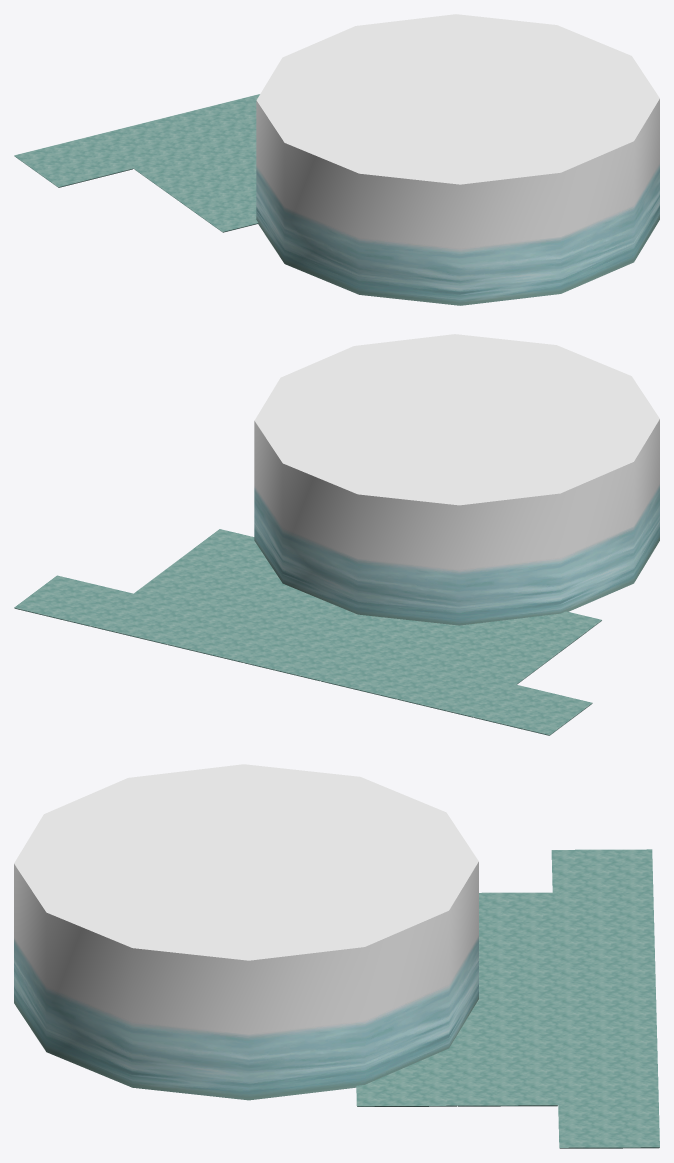
Rendered from hyperbolic_time_chamber_cdb861.glb.
3 views of the same model, one above another, from view 1: azimuth 30°, elevation 25°; view 2: azimuth 150°, elevation 25°; view 3: azimuth 270°, elevation 25° (orthographic). The views are drawn at different scales.
Parts seen in each view (by area): view 1: Object_13, Object_2; view 2: Object_13, Object_2; view 3: Object_13, Object_2.
Part boxes in pixels (x1,y1,x2,y2): Object_13: [256, 14, 659, 305]; Object_2: [14, 94, 259, 232]; Object_13: [254, 334, 659, 625]; Object_2: [14, 529, 601, 735]; Object_13: [14, 764, 478, 1100]; Object_2: [356, 849, 659, 1148].
Size of the model in its own units: 3156 by 689 by 2887.
Materials: 13 (13 with a texture image).
